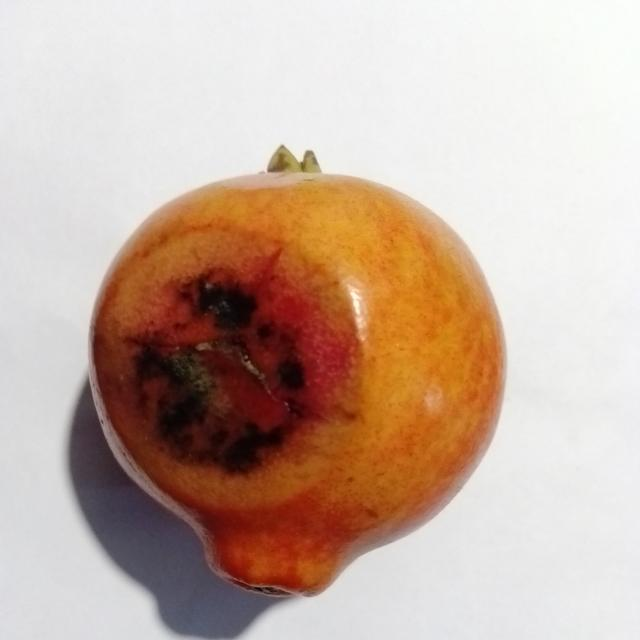Rotten: (82, 132, 518, 602)
